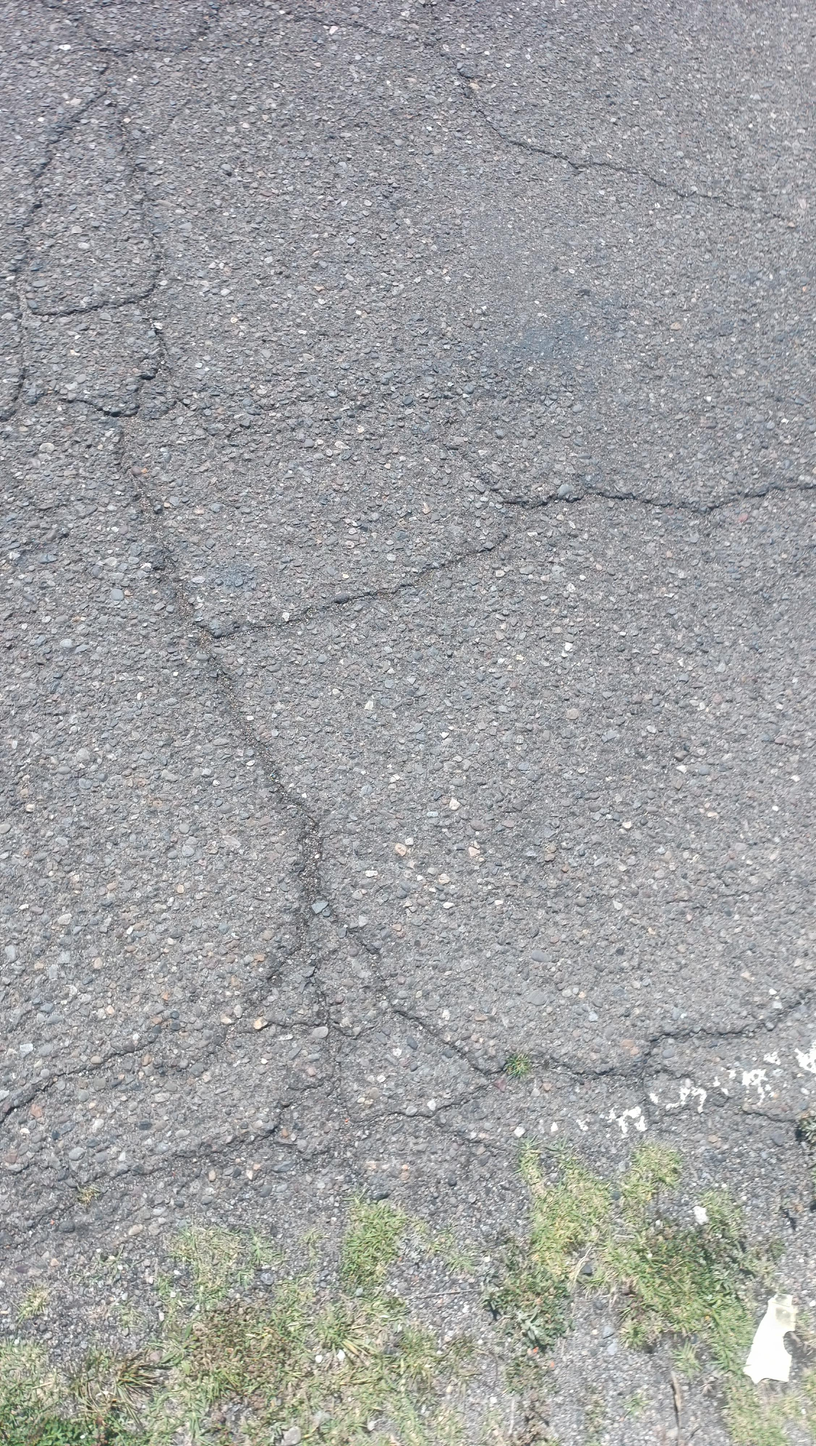GRIETA: (119, 0, 788, 223), (218, 483, 816, 646), (118, 462, 324, 885), (32, 1, 122, 83), (446, 449, 506, 501)
PIEL DE COCODRILO: (0, 885, 816, 1278), (0, 85, 185, 466)
